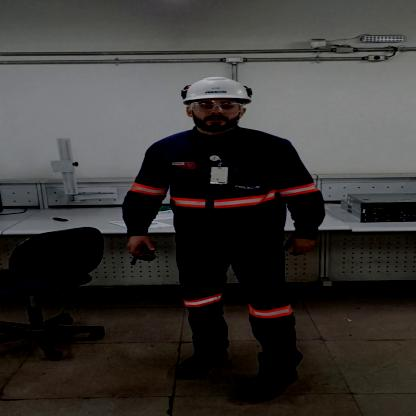Capacete: (176, 74, 257, 105)
